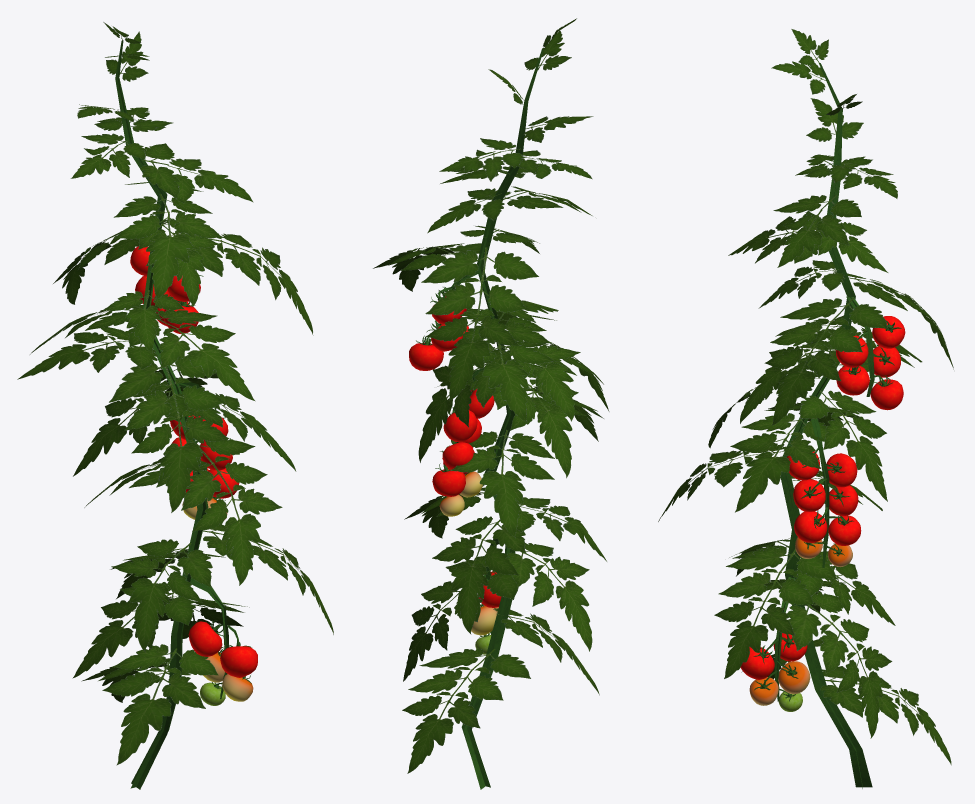
File: tomato_4.fbx
3 renders of one model, left to right at view 1: azimuth 30°, elevation 25°; view 2: azimuth 150°, elevation 25°; view 3: azimuth 270°, elevation 25°, orthographic. The views are drawn at different scales.
Visible parts, largest first — view 1: tomato_4; view 2: tomato_4; view 3: tomato_4.
Part boxes in pixels (<box>): tomato_4: <box>17,22,333,789</box>; tomato_4: <box>373,18,609,789</box>; tomato_4: <box>658,29,953,788</box>.
Bounding box in the file's own units: 0.6789 × 1.93 × 0.7222.
